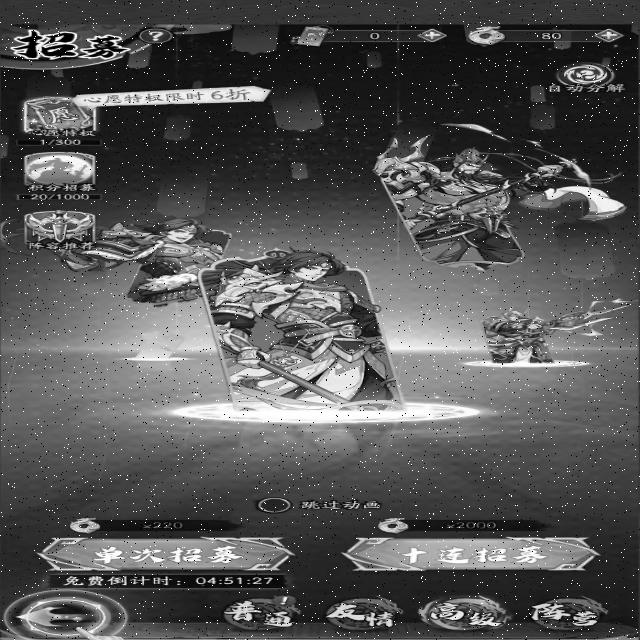hint-guide: (0, 588, 132, 640)
hint-reddot: (266, 591, 306, 610)
operation-back: (17, 603, 102, 629)
operation-singleRecruit: (29, 534, 301, 574)
operation-tenRecruit: (338, 535, 600, 573)
